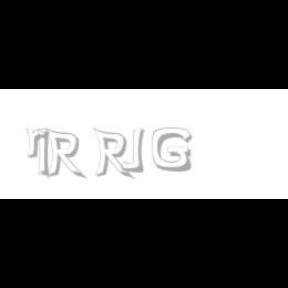G: (152, 128, 192, 172)
J: (119, 128, 144, 172)
R: (45, 128, 83, 180), (93, 128, 131, 180)
l: (37, 128, 53, 180)
r: (25, 128, 52, 158)
